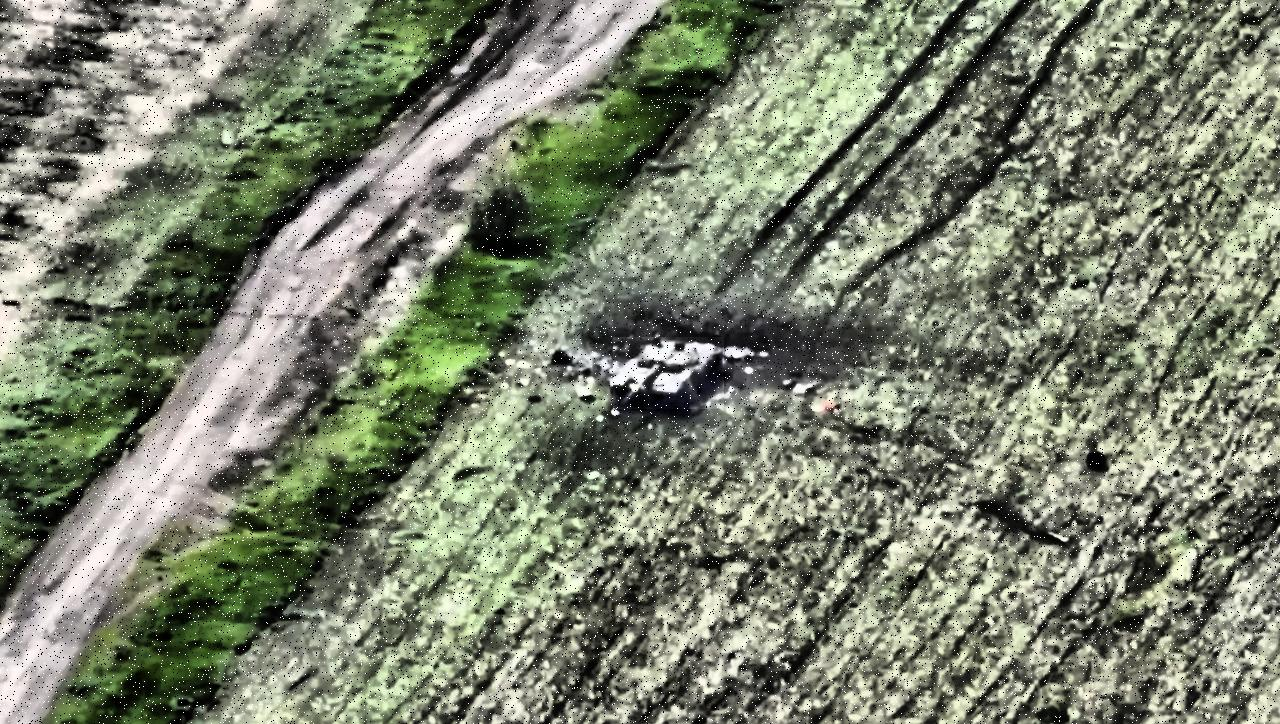military-vehicle: (614, 338, 725, 410)
